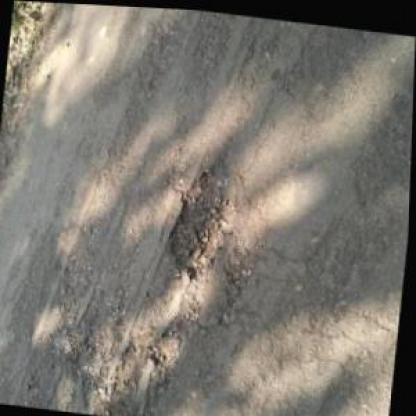pothole: (164, 155, 237, 280)
